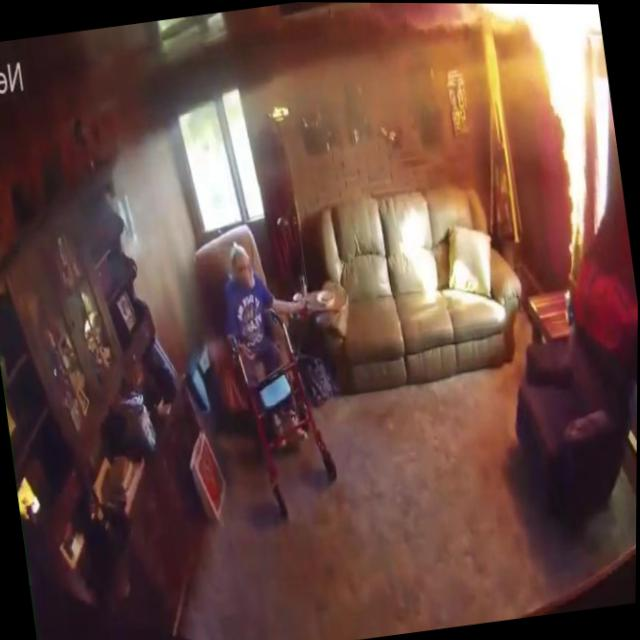fire: (529, 3, 616, 251), (471, 3, 600, 50)
